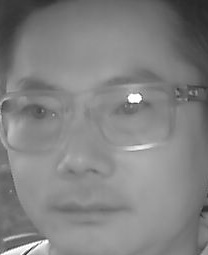glass: (87, 81, 175, 151), (1, 88, 72, 154)
mouth: (55, 196, 129, 228)
